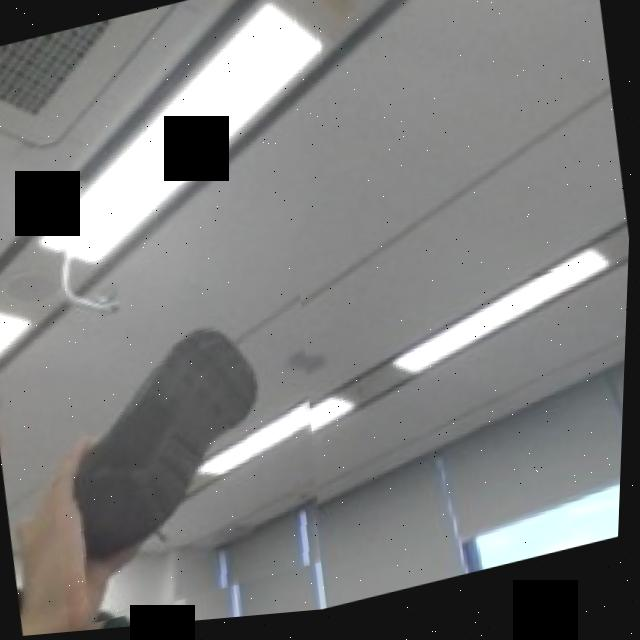shoe: (28, 278, 348, 636)
